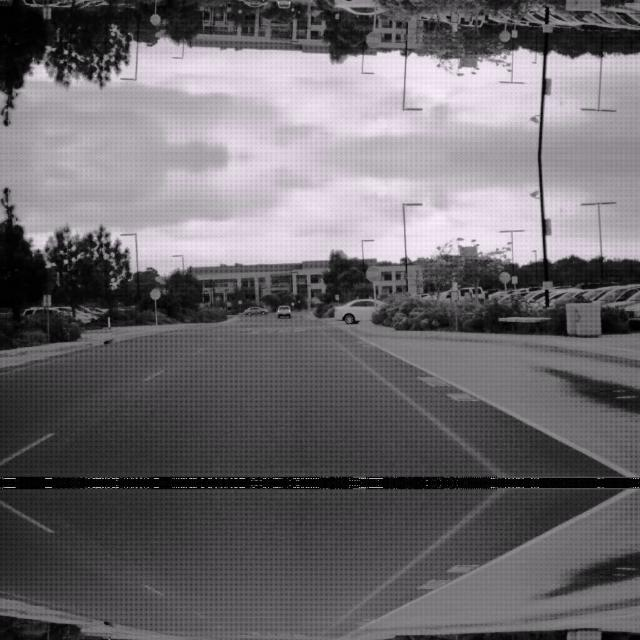stop: (365, 264, 381, 280), (365, 32, 381, 48)
